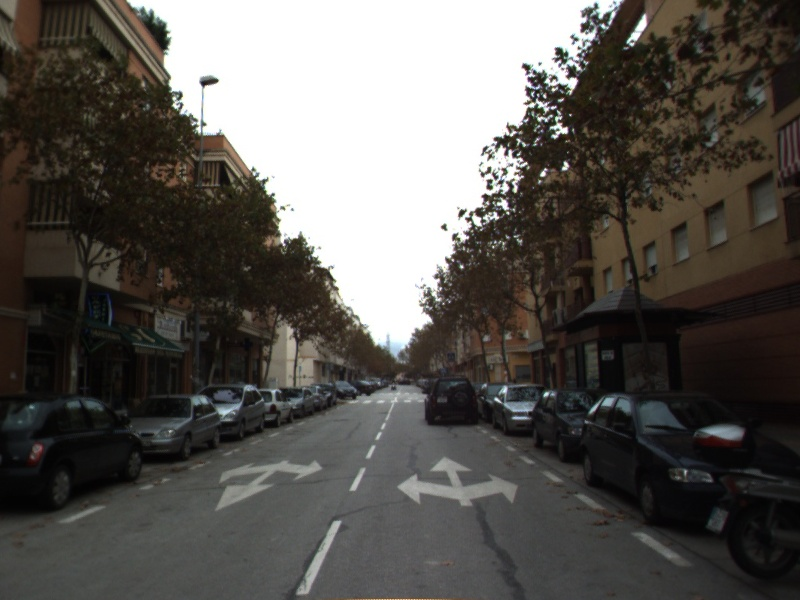STRAIGHT_LEFT_RIGHT: (395, 455, 520, 508)
